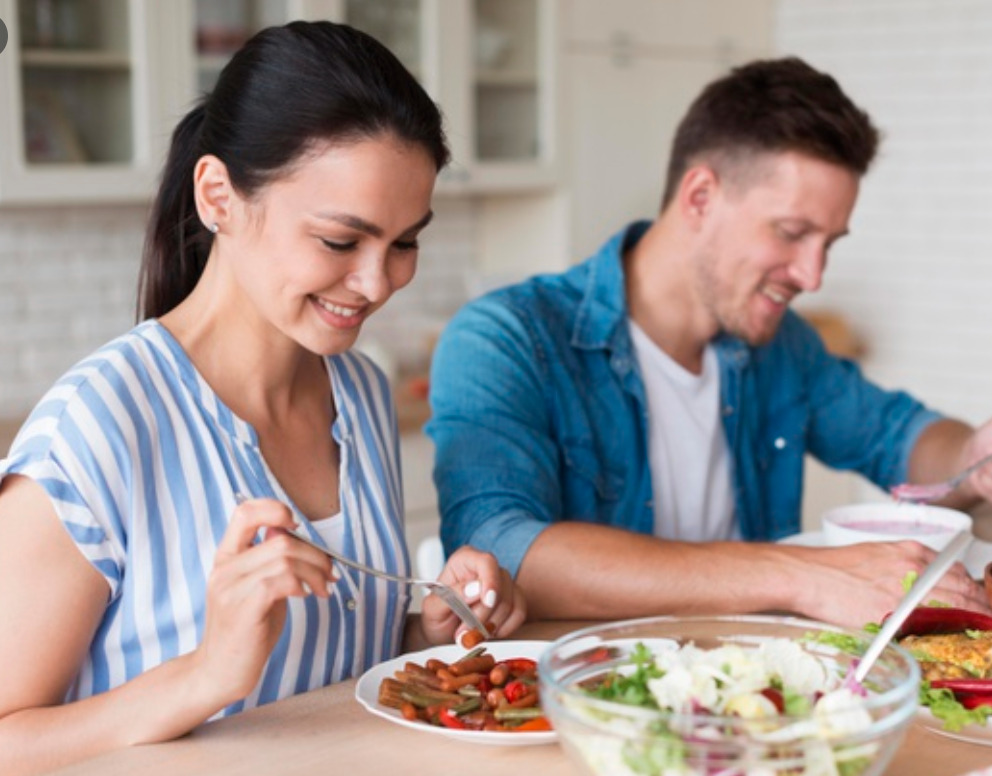Bad: (3, 21, 992, 619)
